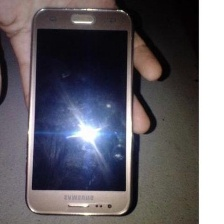phone: (19, 4, 137, 221)
